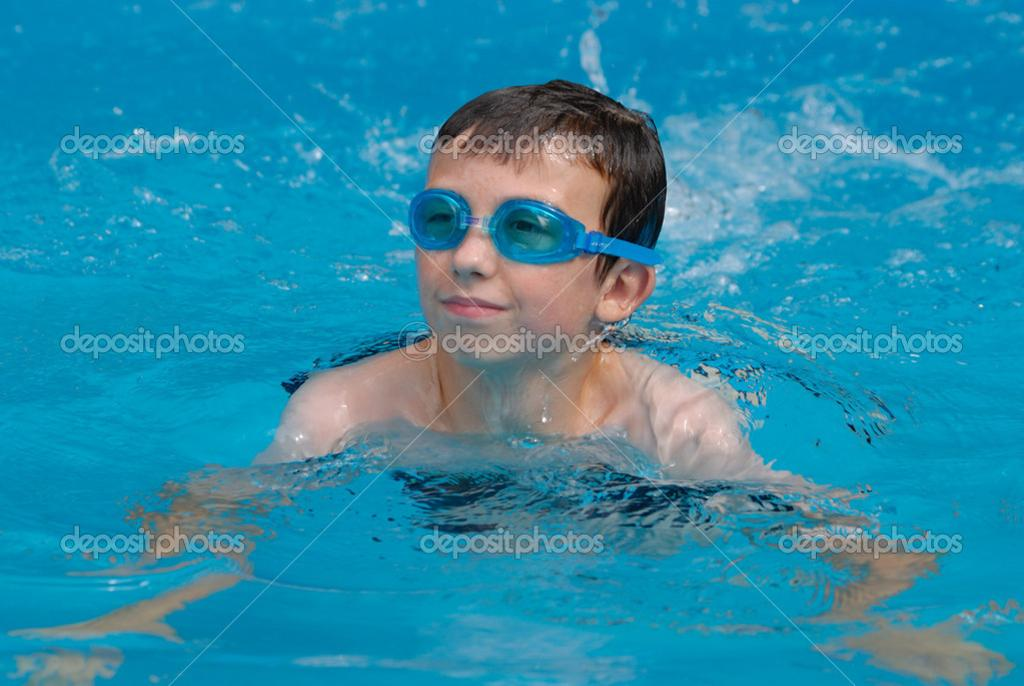face: (410, 164, 606, 362)
